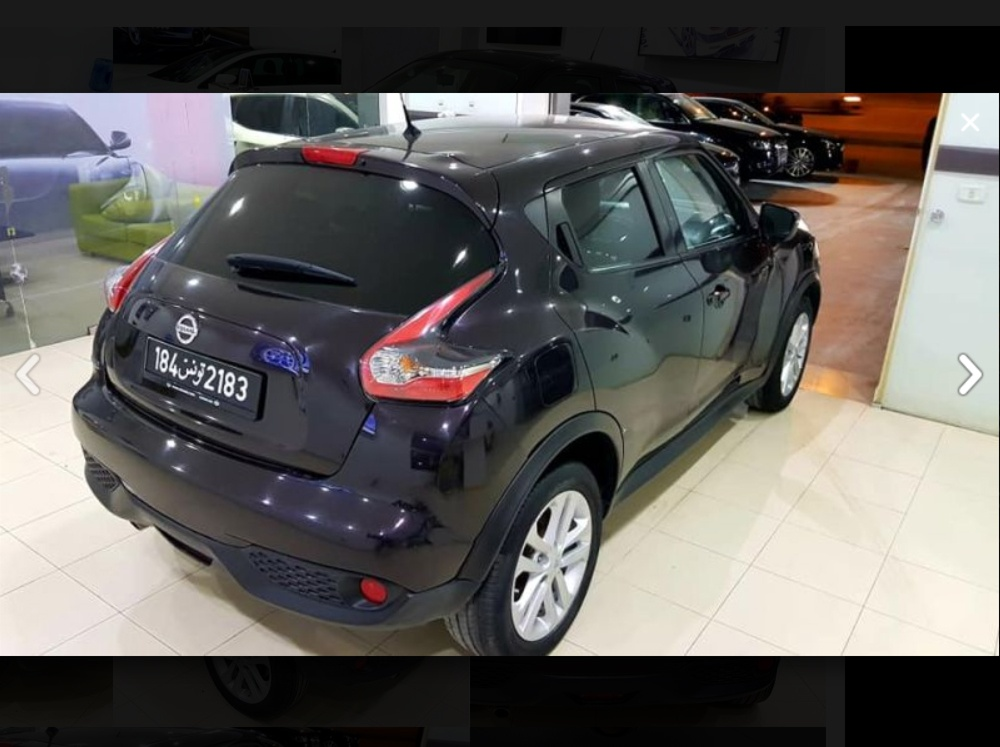LP: (142, 334, 269, 422)
